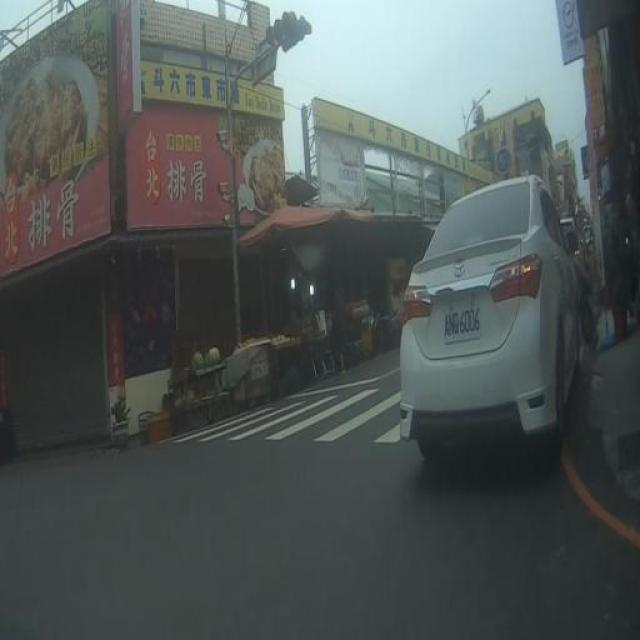illegalparking: (401, 175, 584, 462)
